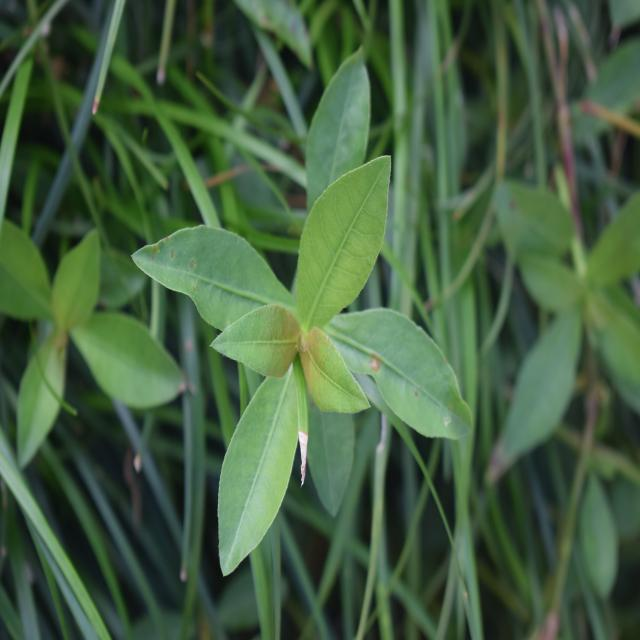Alligatorweed: (163, 80, 468, 558)
